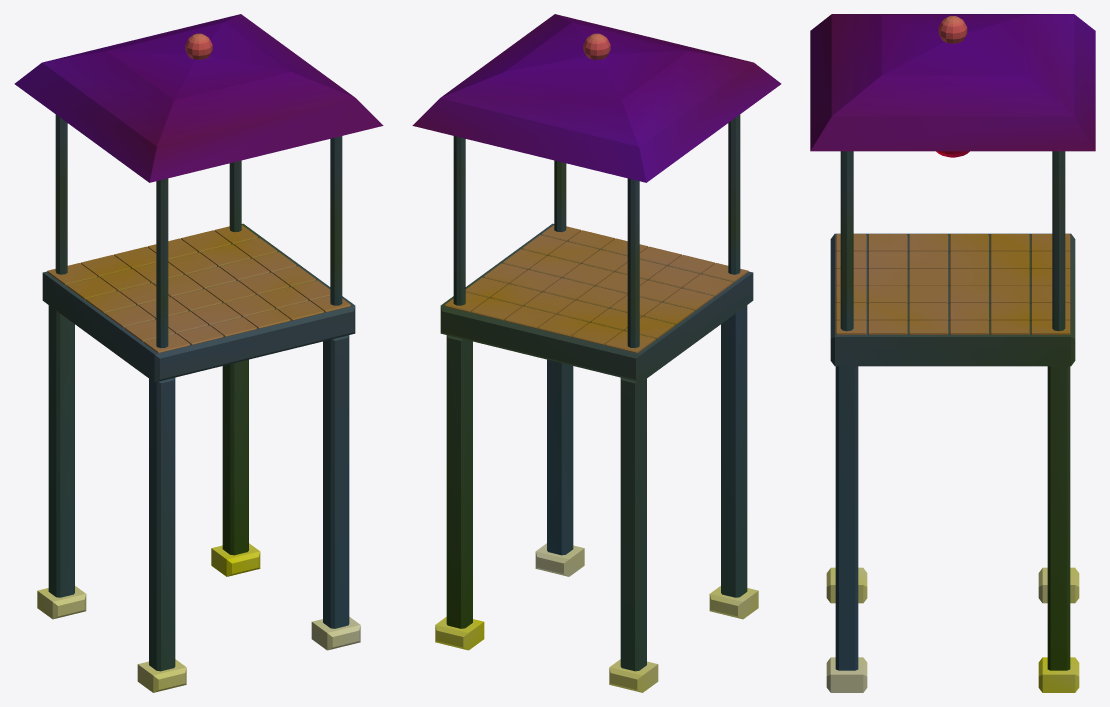
File: GS_Footbridge_Landing.glb
The picture shows the model from 3 angles, left to right: view 1: azimuth 30°, elevation 25°; view 2: azimuth 150°, elevation 25°; view 3: azimuth 270°, elevation 25°; orthographic projection. The views are drawn at different scales.
Visible parts, largest first — view 1: GS_Footbridge_Landing; view 2: GS_Footbridge_Landing; view 3: GS_Footbridge_Landing.
Boxes of the visible parts, x1,y1,x2,y2 form: GS_Footbridge_Landing: (14,14,383,692); GS_Footbridge_Landing: (412,14,781,692); GS_Footbridge_Landing: (810,14,1095,692).
Bounding box in the file's own units: 3.5 × 8.43 × 3.5.
